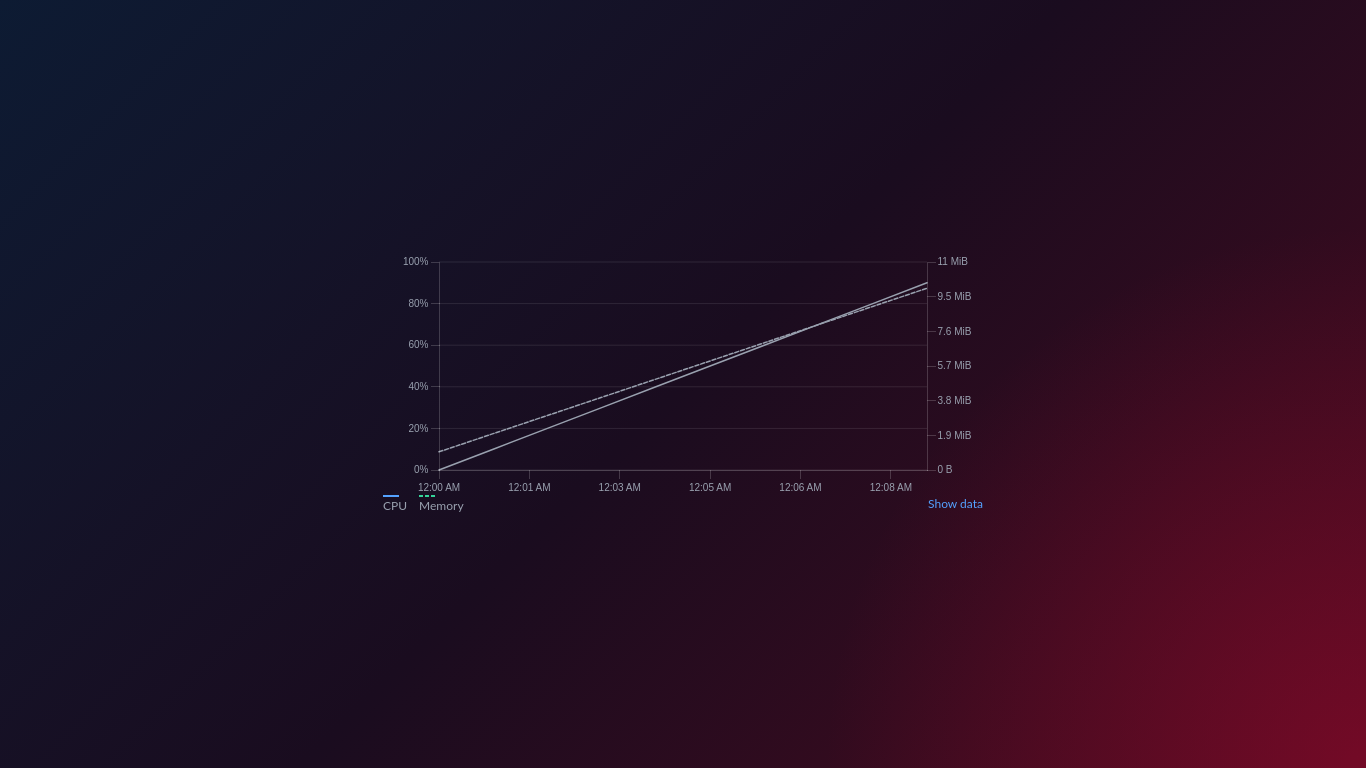
it: TimeSeriesChart › offers a keyboard-reachable data table alternative
Click the button "Show data" at (956, 504), box [928,496,983,512]
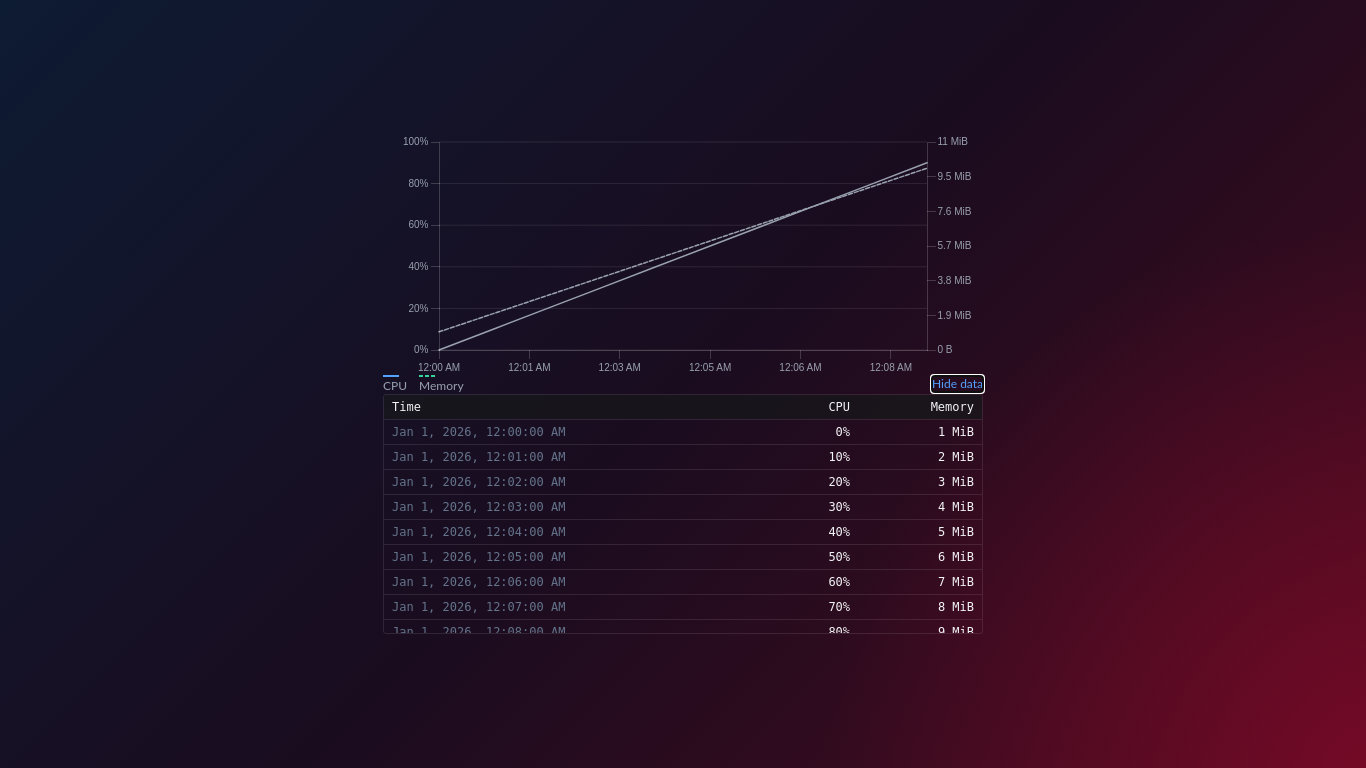
expect the number of rows is 10: met
